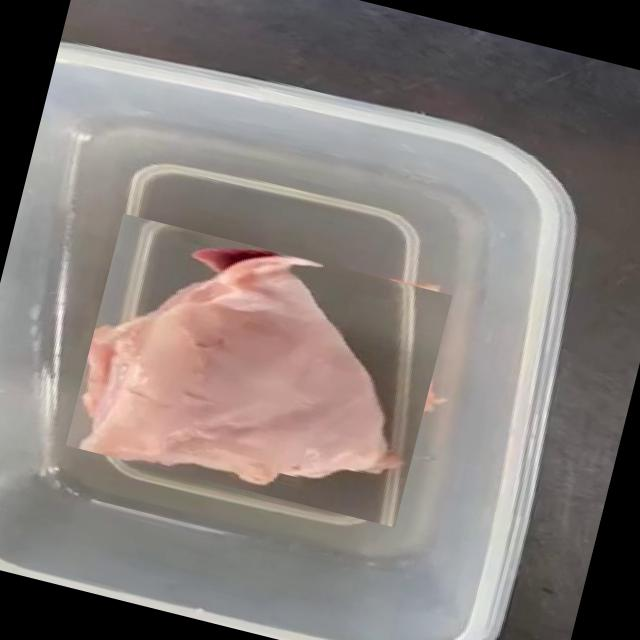chicken: (64, 213, 452, 528)
